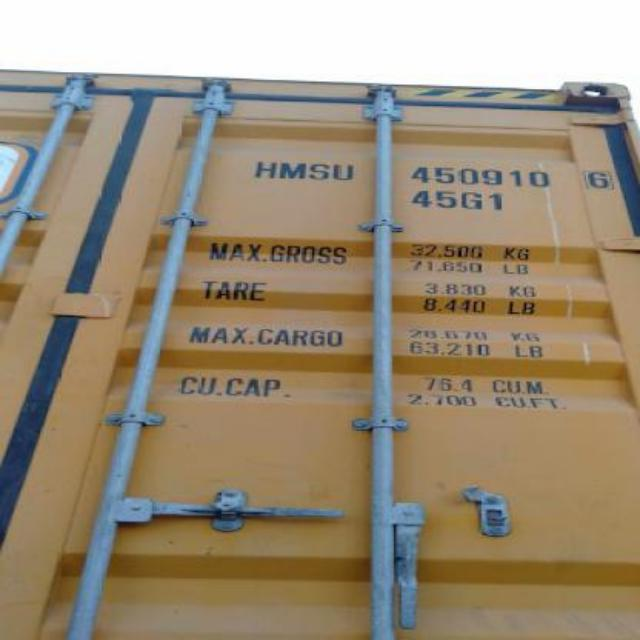0: (454, 159, 480, 189), (528, 162, 554, 190)
1: (506, 163, 526, 190)
4: (404, 160, 432, 186)
5: (430, 160, 456, 190)
6: (582, 170, 612, 192)
9: (476, 163, 508, 187)
H: (248, 155, 280, 181)
M: (280, 157, 310, 183)
S: (310, 159, 334, 185)
U: (328, 156, 354, 188)
